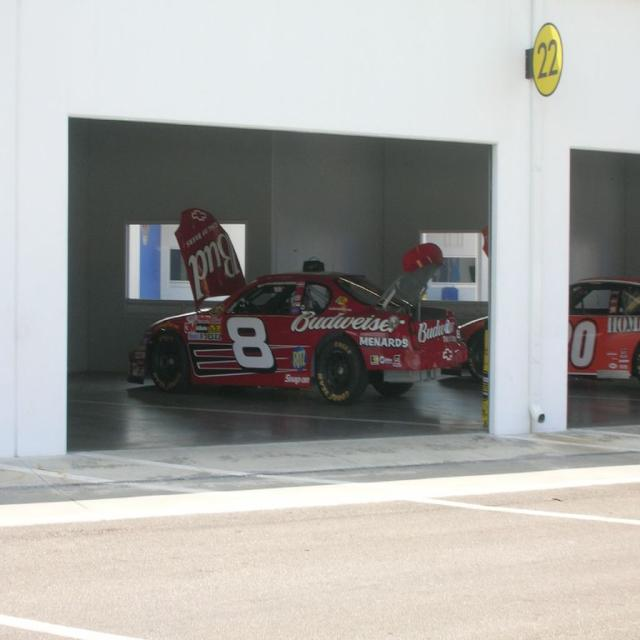car: (126, 209, 466, 403)
